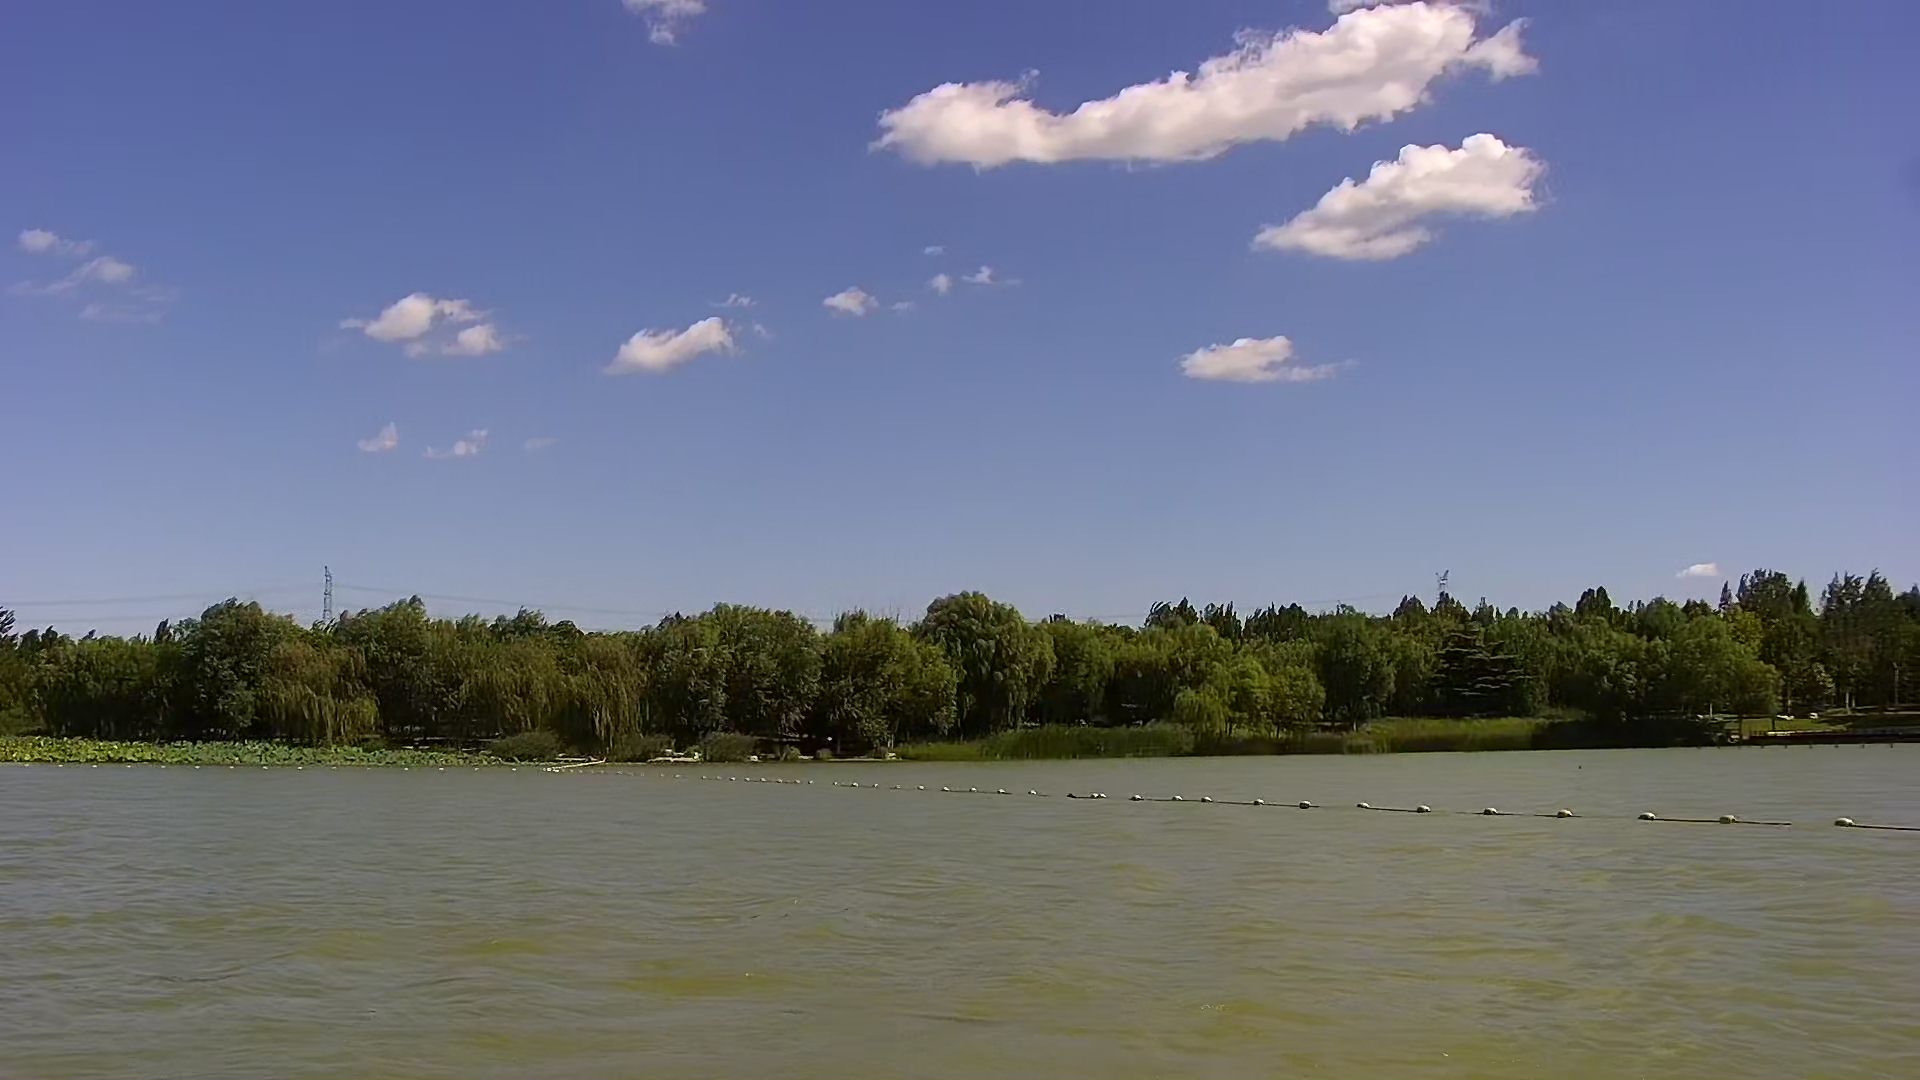ball: (1474, 790, 1515, 831), (1538, 794, 1589, 825), (1633, 798, 1676, 835), (1404, 791, 1448, 825), (1709, 802, 1750, 837), (1294, 786, 1327, 825), (1826, 800, 1863, 835), (1349, 789, 1385, 822)
